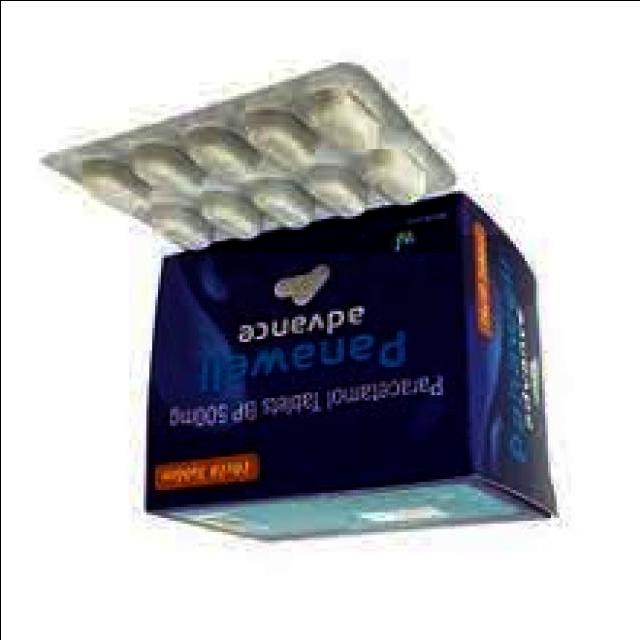authentic: (125, 234, 583, 553), (0, 53, 455, 252)
